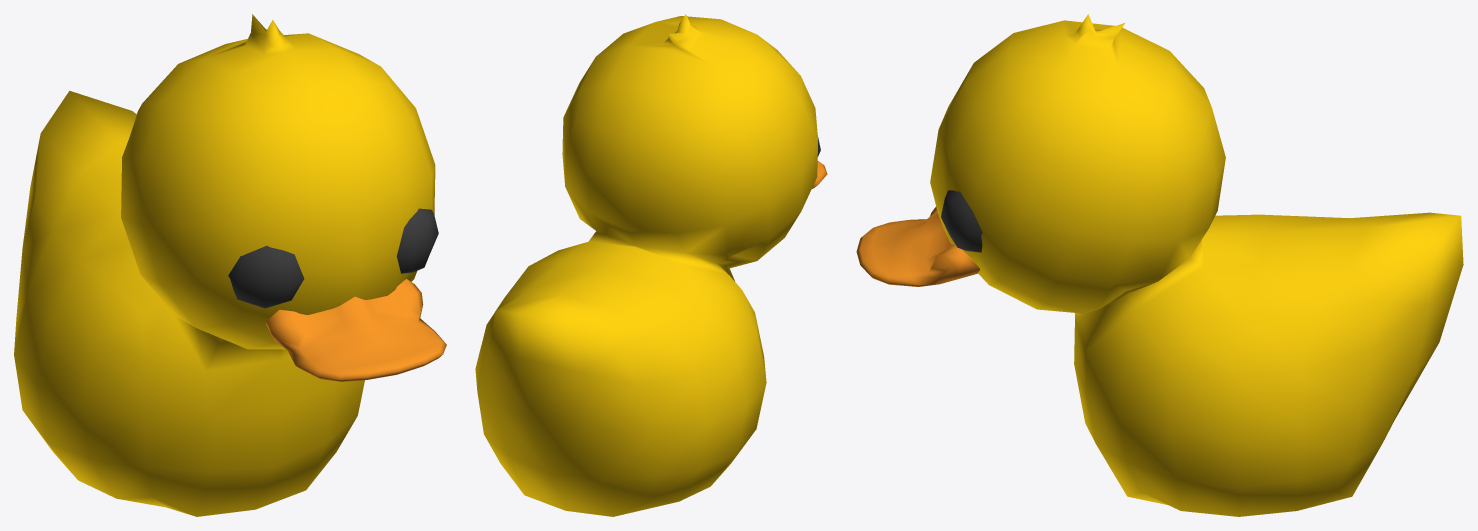
Rendered from PATO.obj.
3 renders of one model, left to right at view 1: azimuth 30°, elevation 25°; view 2: azimuth 150°, elevation 25°; view 3: azimuth 270°, elevation 25°, orthographic. The views are drawn at different scales.
Parts seen in each view (by area): view 1: PATO; view 2: PATO; view 3: PATO.
Boxes of the visible parts, <box> form: PATO: <box>14,14,446,516</box>; PATO: <box>475,14,827,516</box>; PATO: <box>856,14,1463,516</box>.
Size of the model in its own units: 1.67 by 2.66 by 3.09.
1 material, 1 textured.
